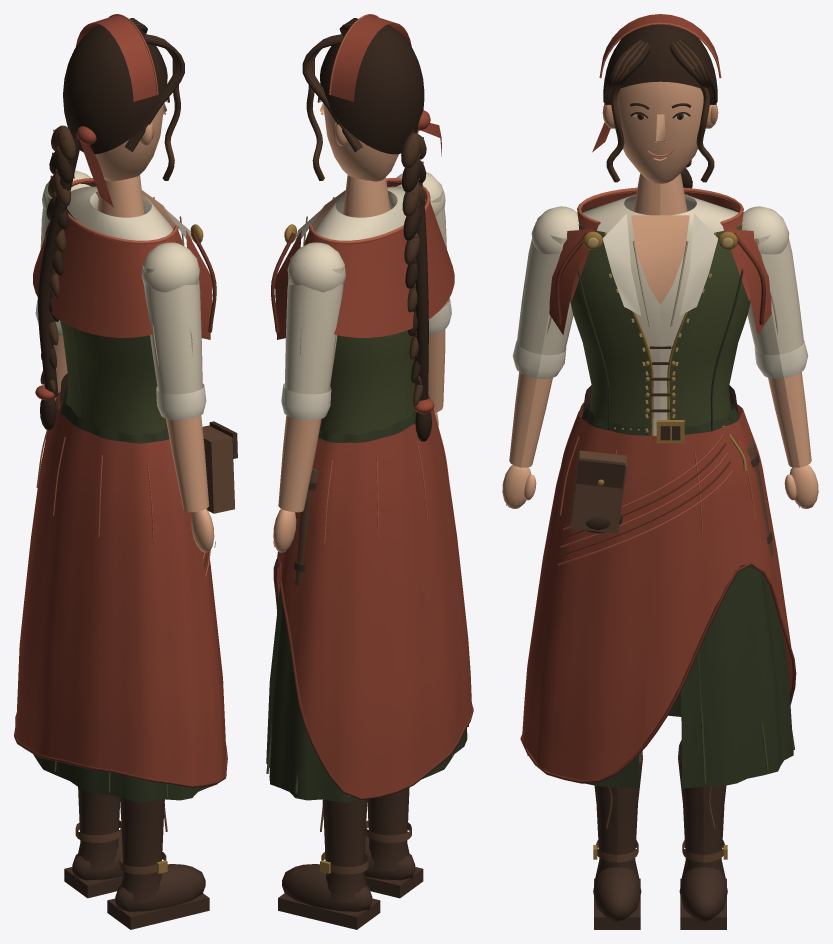
The picture shows the model from 3 angles, left to right: view 1: azimuth 30°, elevation 25°; view 2: azimuth 150°, elevation 25°; view 3: azimuth 270°, elevation 25°; orthographic projection.
Parts seen in each view (by area): view 1: pelvis_rust, chest_rust, head_hair, chest_green, uarmL_ivory, legL_leather, legR_leather, pelvis_greenDark, braid_hair, head_rust, farmL_skin, chest_ivory (+12 smaller); view 2: pelvis_rust, chest_rust, head_hair, pelvis_greenDark, chest_green, uarmR_ivory, legR_leather, legL_leather, braid_hair, farmR_skin, head_rust, chest_ivory (+15 smaller); view 3: pelvis_rust, pelvis_greenDark, chest_green, head_skin, chest_ivory, legR_leather, legL_leather, uarmL_ivory, uarmR_ivory, head_hair, chest_skin, chest_rust (+18 smaller).
Part boxes in pixels (x1=…): pelvis_rust: x1=15, y1=391, x2=226, y2=784; chest_rust: x1=33, y1=182, x2=212, y2=339; head_hair: x1=63, y1=18, x2=184, y2=154; chest_green: x1=60, y1=209, x2=176, y2=434; uarmL_ivory: x1=141, y1=242, x2=202, y2=394; legL_leather: x1=107, y1=797, x2=209, y2=929; legR_leather: x1=64, y1=787, x2=123, y2=898; pelvis_greenDark: x1=33, y1=387, x2=217, y2=802; braid_hair: x1=38, y1=128, x2=80, y2=430; head_rust: x1=73, y1=15, x2=156, y2=207; farmL_skin: x1=166, y1=415, x2=209, y2=512; chest_ivory: x1=67, y1=186, x2=172, y2=240; pelvis_rust: x1=277, y1=395, x2=471, y2=796; chest_rust: x1=275, y1=182, x2=454, y2=339; head_hair: x1=302, y1=18, x2=424, y2=154; pelvis_greenDark: x1=266, y1=410, x2=467, y2=802; chest_green: x1=311, y1=241, x2=415, y2=434; uarmR_ivory: x1=285, y1=242, x2=345, y2=394; legR_leather: x1=278, y1=799, x2=380, y2=929; legL_leather: x1=364, y1=787, x2=423, y2=898; braid_hair: x1=402, y1=129, x2=431, y2=441; farmR_skin: x1=278, y1=415, x2=321, y2=512; head_rust: x1=331, y1=15, x2=441, y2=156; chest_ivory: x1=314, y1=186, x2=406, y2=240; pelvis_rust: x1=522, y1=402, x2=792, y2=780; pelvis_greenDark: x1=527, y1=403, x2=793, y2=788; chest_green: x1=570, y1=205, x2=750, y2=435; head_skin: x1=602, y1=81, x2=718, y2=183; chest_ivory: x1=582, y1=194, x2=738, y2=435; legR_leather: x1=678, y1=740, x2=727, y2=929; legL_leather: x1=593, y1=759, x2=642, y2=929; uarmL_ivory: x1=517, y1=206, x2=579, y2=355; uarmR_ivory: x1=741, y1=206, x2=803, y2=355; head_hair: x1=603, y1=24, x2=717, y2=104; chest_skin: x1=631, y1=173, x2=689, y2=303; chest_rust: x1=549, y1=191, x2=771, y2=334.
Size of the model in its own units: 0.3388 by 1.74 by 0.5632.
